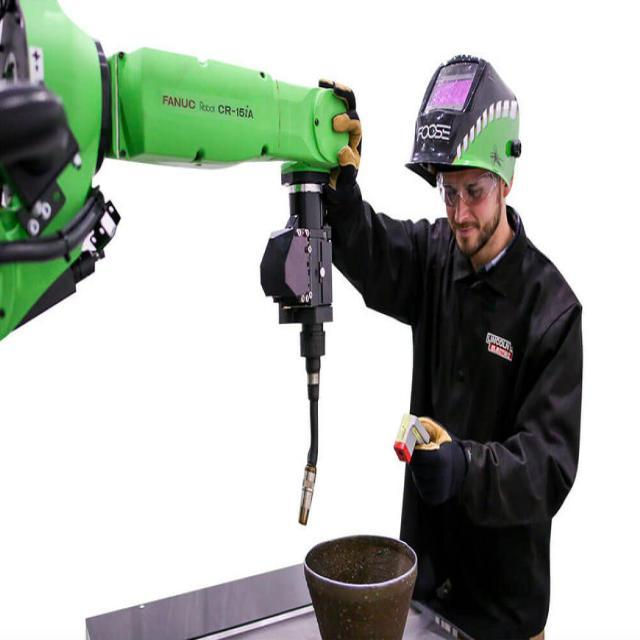helmet_lifted: (406, 55, 521, 258)
without_helmet: (436, 162, 509, 257)
